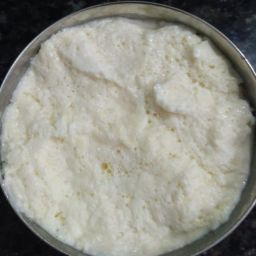Heavy Cream: (10, 44, 256, 252), (8, 153, 237, 245), (56, 110, 248, 200), (13, 78, 93, 203), (47, 47, 231, 98)
